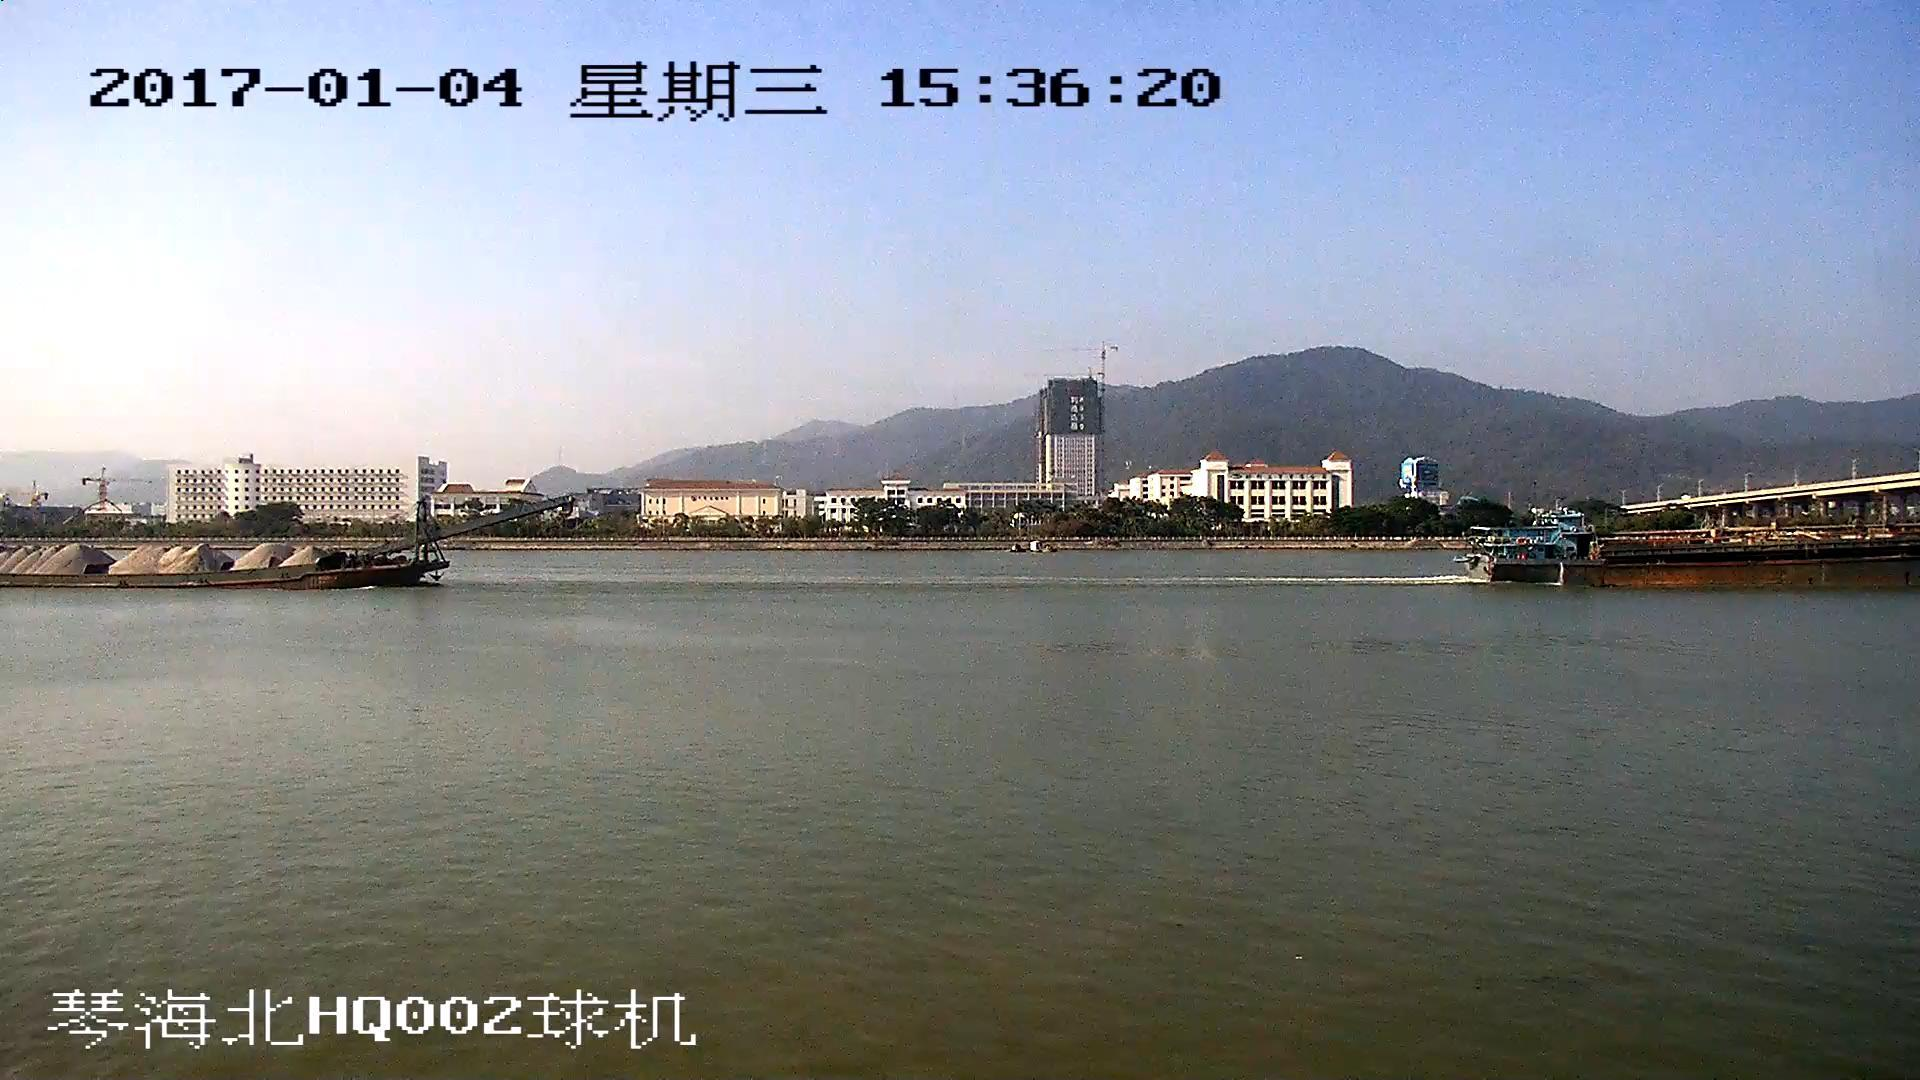Ship: (3, 497, 574, 588), (1466, 524, 1920, 589)
